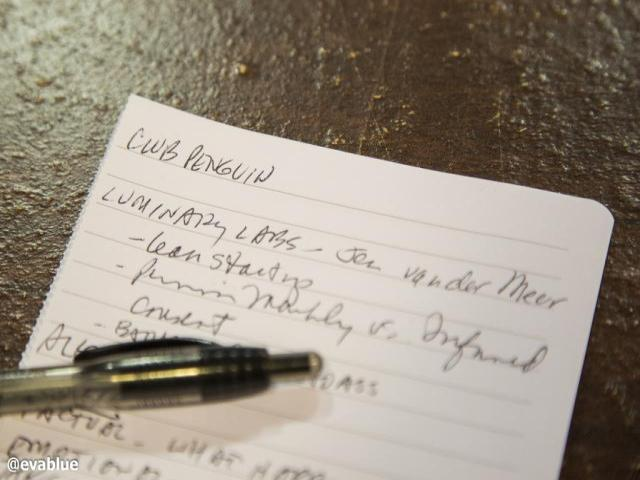PEN: (0, 328, 331, 433)
